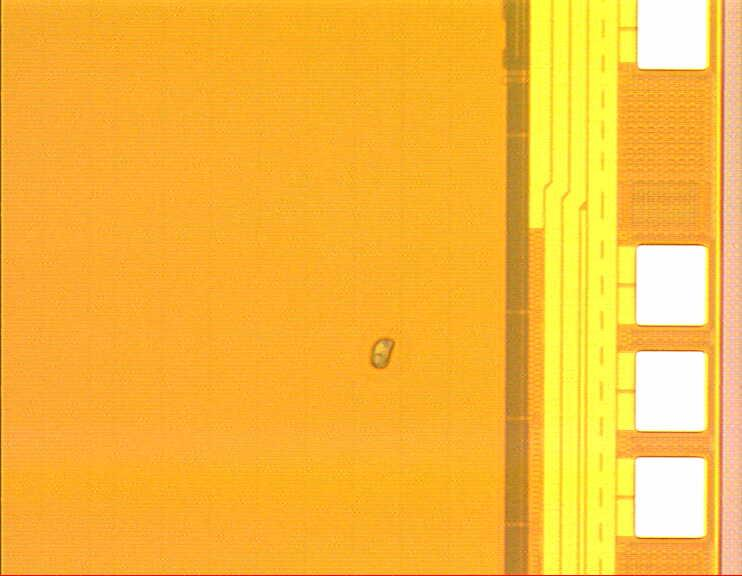PIQ PARTICLE: (369, 338, 398, 371)
